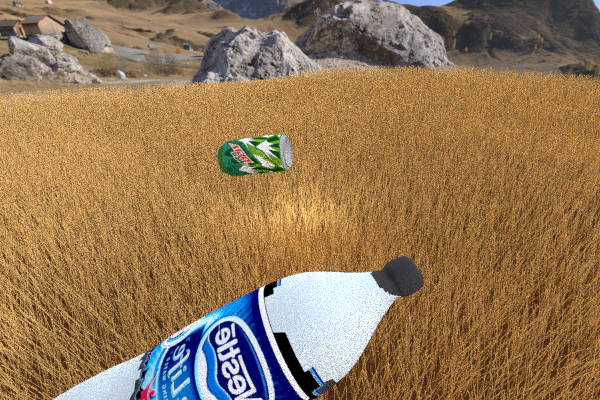Plastic Bottle: (0, 256, 423, 400), (216, 133, 292, 176), (383, 108, 414, 144)
